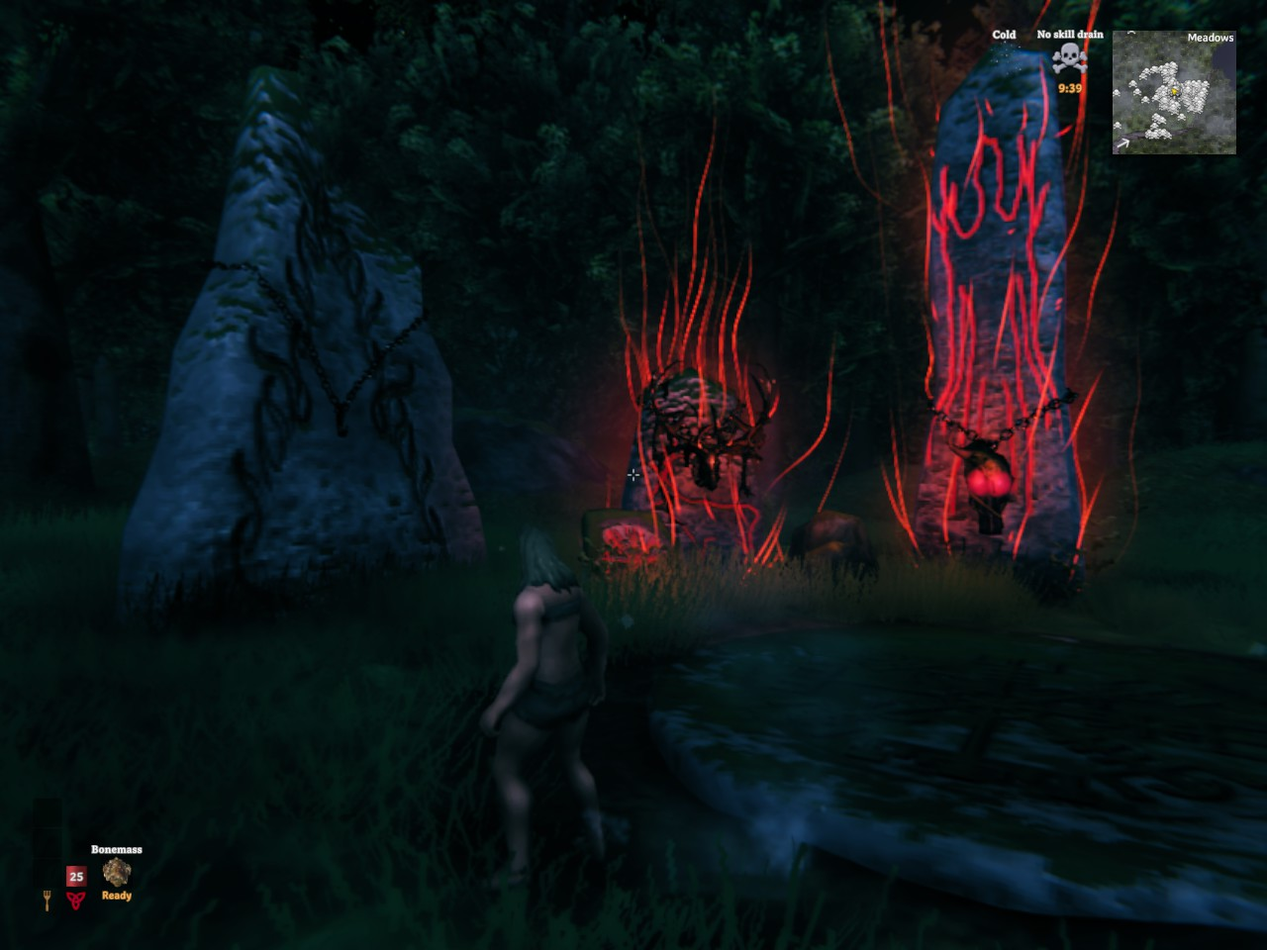Rune Stone: (583, 510, 662, 572)
Spawn Point: (649, 624, 1266, 934)
